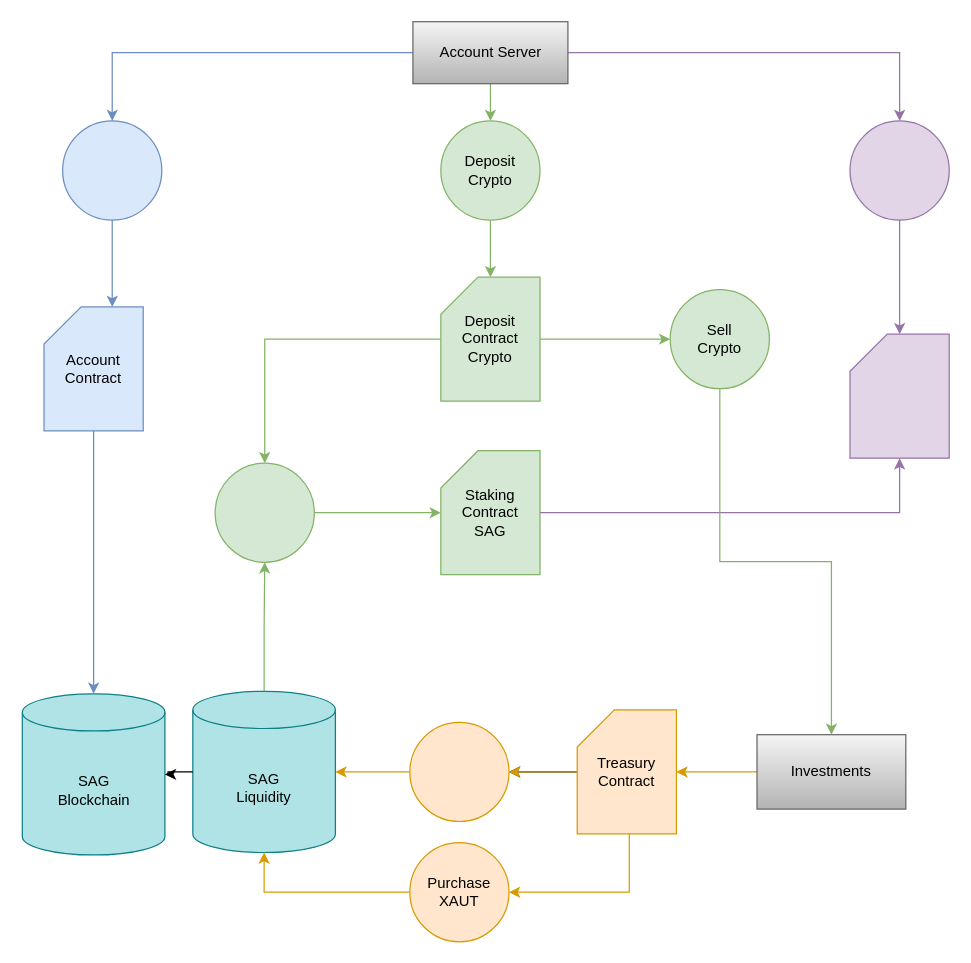
The diagram is 971 pixels wide and 963 high, and some of its shapes have lost their labels. Each missing label, with the box of its shape:
Open Account: (61, 120, 162, 220)
Purchase SAG: (409, 721, 509, 822)
Transfer SAG: (214, 462, 314, 562)
Withdraw SAG: (849, 120, 949, 220)
Withdrawal Contract: (849, 333, 949, 458)
